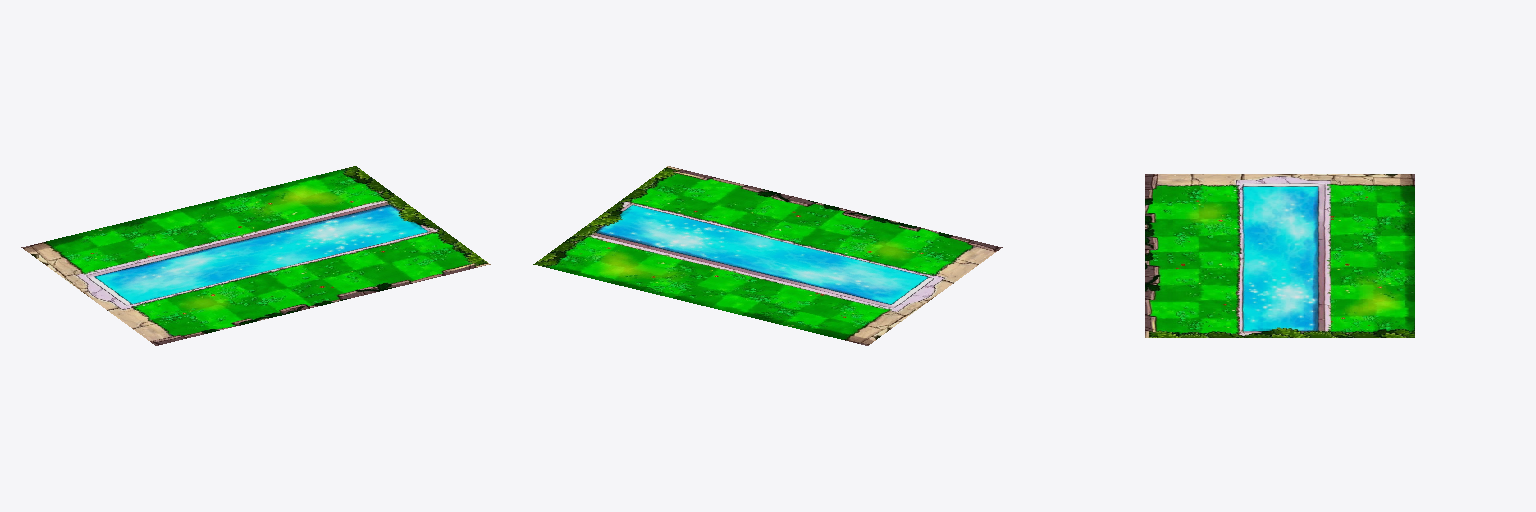
3 views of the same model, side by side, from view 1: azimuth 30°, elevation 25°; view 2: azimuth 150°, elevation 25°; view 3: azimuth 270°, elevation 25° (orthographic).
Parts seen in each view (by area): view 1: pPlane1; view 2: pPlane1; view 3: pPlane1.
Boxes of the visible parts, <box> form: pPlane1: <box>21,166,490,345</box>; pPlane1: <box>533,166,1002,345</box>; pPlane1: <box>1145,174,1414,337</box>.
Bounding box in the file's own units: 13.86 × 0 × 9.66.
1 materials, 1 textured.